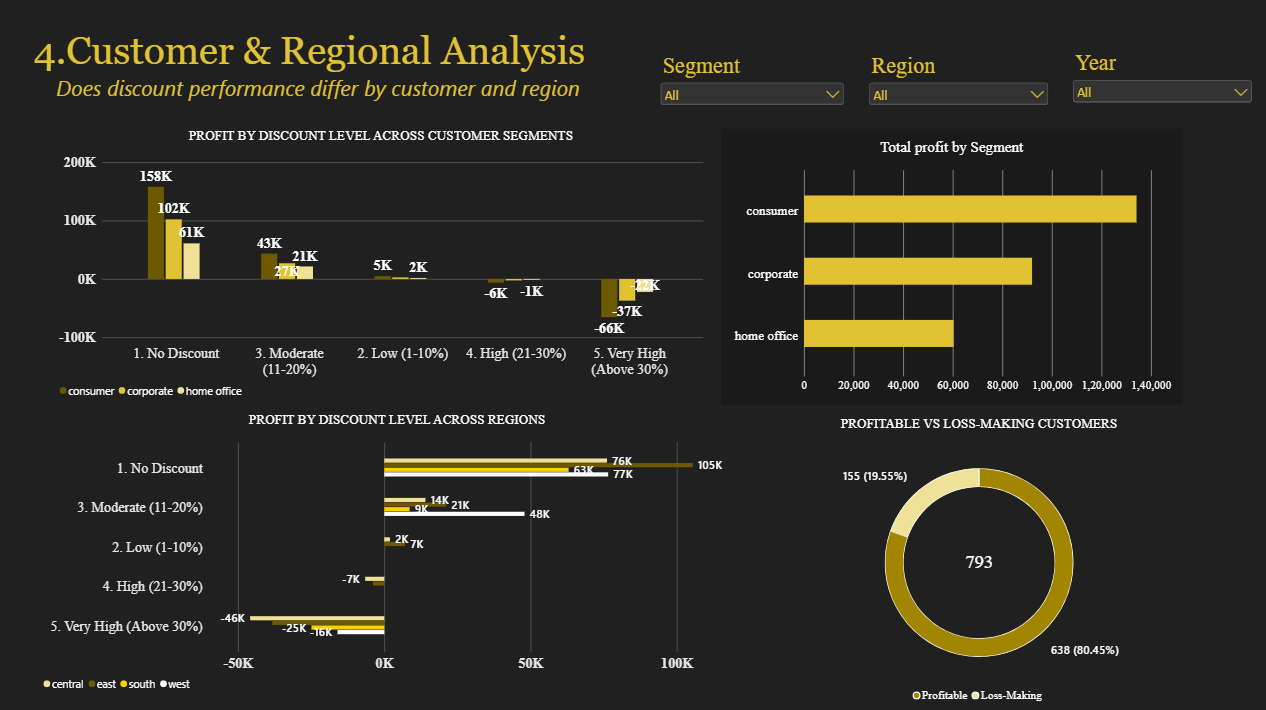

The dashboard page shown, as its layout file describes it:
{"tool":"powerbi","page":{"name":"Customer & Regional","canvas":[1920,1080],"ordinal":3},"visuals":[{"type":"textbox","box":[50,43.8,858.3,150],"z":0},{"type":"slicer","fields":{"Values":["superstore_cleaned.Region"]},"box":[1308.3,79.2,279.2,97.9],"z":1000},{"type":"slicer","fields":{"Values":["superstore_cleaned.Segment"]},"box":[991.7,79.2,285.4,81.2],"z":2000},{"type":"slicer","fields":{"Values":["superstore_cleaned.Order Date.Variation.Date Hierarchy.Year"]},"box":[1614.6,75,279.2,85.4],"z":3000},{"type":"clusteredColumnChart","title":"PROFIT BY DISCOUNT LEVEL ACROSS CUSTOMER SEGMENTS","fields":{"Category":["superstore_cleaned.Discount Bucket"],"Series":["superstore_cleaned.Segment"],"Y":["superstore_cleaned.Total profit"]},"box":[89.6,193.8,972.9,410.4],"z":4000},{"type":"clusteredBarChart","title":"PROFIT BY DISCOUNT LEVEL ACROSS REGIONS ","fields":{"Category":["superstore_cleaned.Discount Bucket"],"Series":["superstore_cleaned.Region"],"Y":["superstore_cleaned.Total profit"]},"box":[64.6,622.9,1070.8,425],"z":5000},{"type":"donutChart","title":"PROFITABLE VS LOSS-MAKING CUSTOMERS","fields":{"Category":["superstore_cleaned.Customer Profitability"],"Y":["Count(superstore_cleaned.Customer ID)"]},"box":[1062.5,629.2,831.2,437.5],"z":6000},{"type":"clusteredBarChart","fields":{"Category":["superstore_cleaned.Segment"],"Y":["superstore_cleaned.Total profit"]},"box":[1089.6,193.8,695.8,416.7],"z":7000}]}

Visuals, with their boxes in screenshot pixels (x1, y1, x2, y2), scaled from the page's 1920x1080 canvas onto the 1266x710 screenshot:
textbox: select_region(33, 29, 599, 127)
slicer - superstore_cleaned.Region: select_region(863, 52, 1047, 116)
slicer - superstore_cleaned.Segment: select_region(654, 52, 842, 105)
slicer - superstore_cleaned.Order Date.Variation.Date Hierarchy.Year: select_region(1065, 49, 1249, 105)
"PROFIT BY DISCOUNT LEVEL ACROSS CUSTOMER SEGMENTS" clusteredColumnChart: select_region(59, 127, 701, 397)
"PROFIT BY DISCOUNT LEVEL ACROSS REGIONS " clusteredBarChart: select_region(43, 409, 749, 689)
"PROFITABLE VS LOSS-MAKING CUSTOMERS" donutChart: select_region(701, 414, 1249, 701)
clusteredBarChart - superstore_cleaned.Segment x superstore_cleaned.Total profit: select_region(718, 127, 1177, 401)
